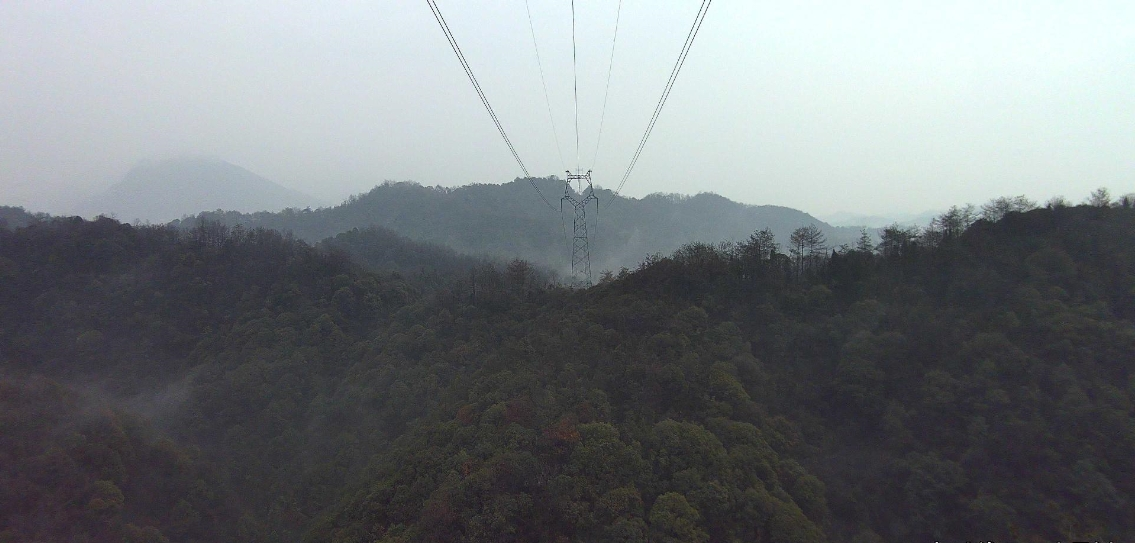山间云雾: (0, 0, 1134, 292), (33, 358, 211, 450)
